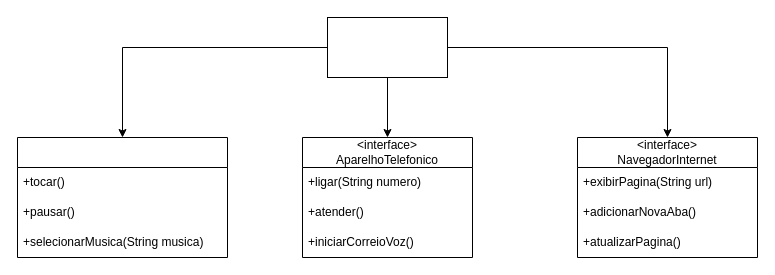
The diagram is 775 pixels wide and 275 high, and some of its shapes have lost their labels. Here are the shapes that lost their labels. From the top down, the box of each, then its label:
(326, 16, 448, 78): <classe> iPhone
(16, 136, 228, 258): <interface> ReprodutorMusical
